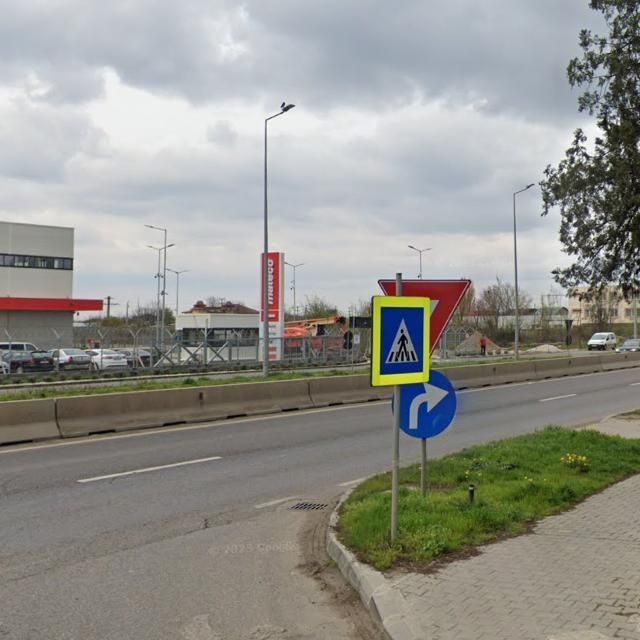info_crosswalk: (373, 295, 431, 383)
